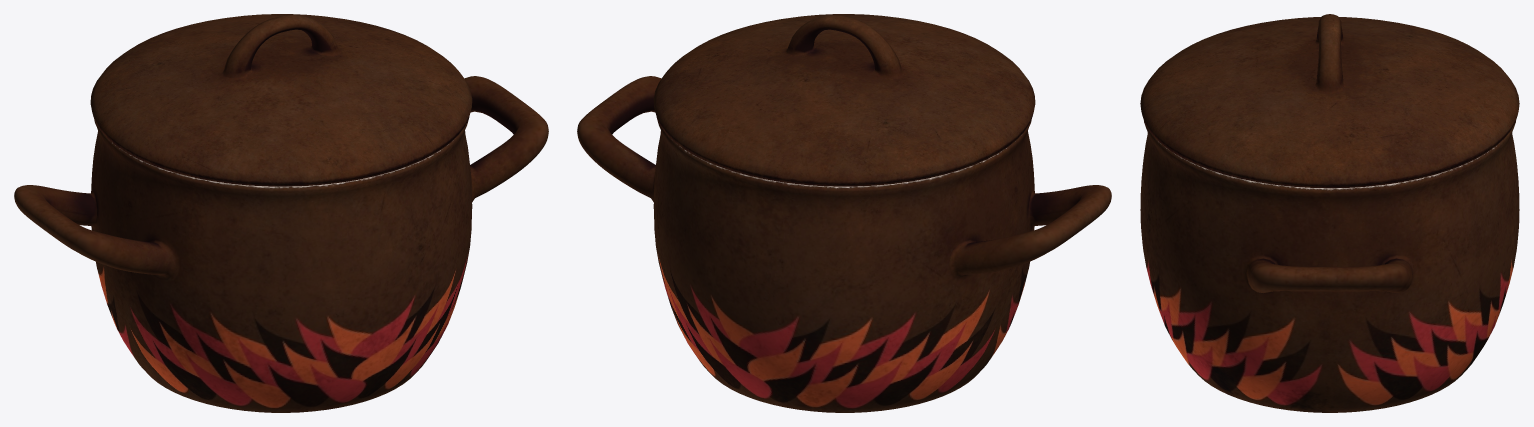
The model's file is pot_enamel_01_cc0_clip_ready_v1.glb.
3 renders of one model, left to right at view 1: azimuth 30°, elevation 25°; view 2: azimuth 150°, elevation 25°; view 3: azimuth 270°, elevation 25°, orthographic.
Parts seen in each view (by area): view 1: pot_enamel_01_base, pot_enamel_01_lid; view 2: pot_enamel_01_base, pot_enamel_01_lid; view 3: pot_enamel_01_base, pot_enamel_01_lid.
Boxes of the visible parts, left/top/right/bottom form: pot_enamel_01_base: left=14, top=76, right=548, bottom=412; pot_enamel_01_lid: left=90, top=14, right=472, bottom=186; pot_enamel_01_base: left=577, top=76, right=1111, bottom=412; pot_enamel_01_lid: left=653, top=14, right=1035, bottom=186; pot_enamel_01_base: left=1140, top=121, right=1519, bottom=412; pot_enamel_01_lid: left=1140, top=14, right=1519, bottom=188.
Size of the model in its own units: 0.2629 by 0.1783 by 0.1805.
1 material, 1 textured.
